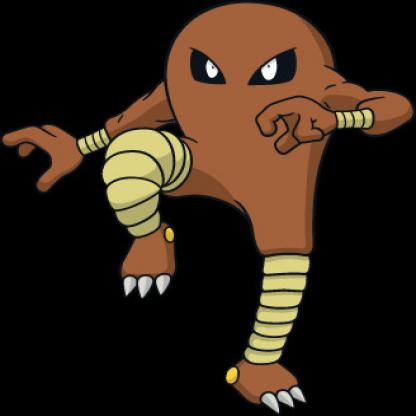Hitmonlee: (6, 1, 411, 407)
